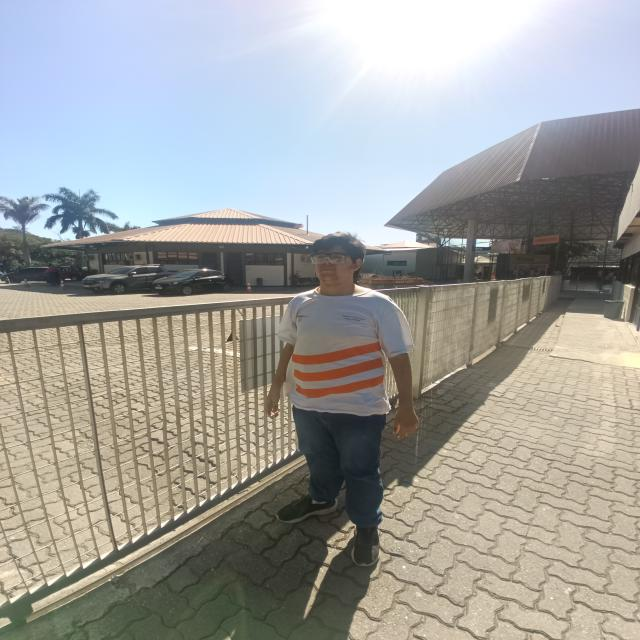oculos-epi: (311, 252, 349, 264)
